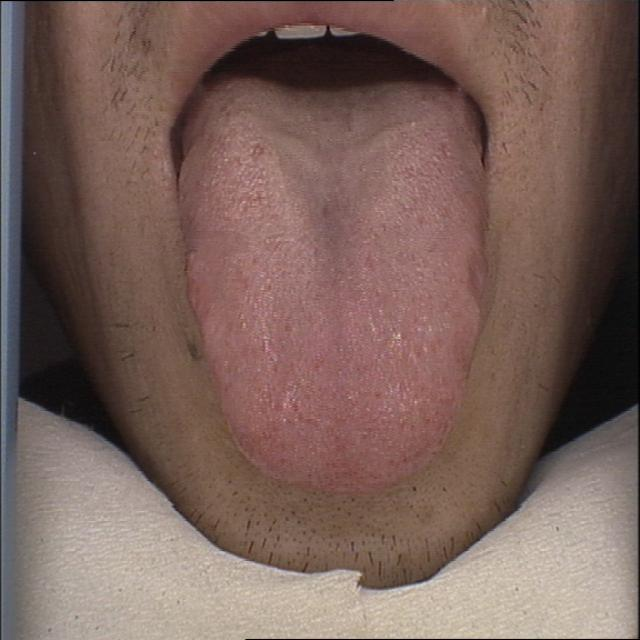tongue: (169, 72, 495, 502)
